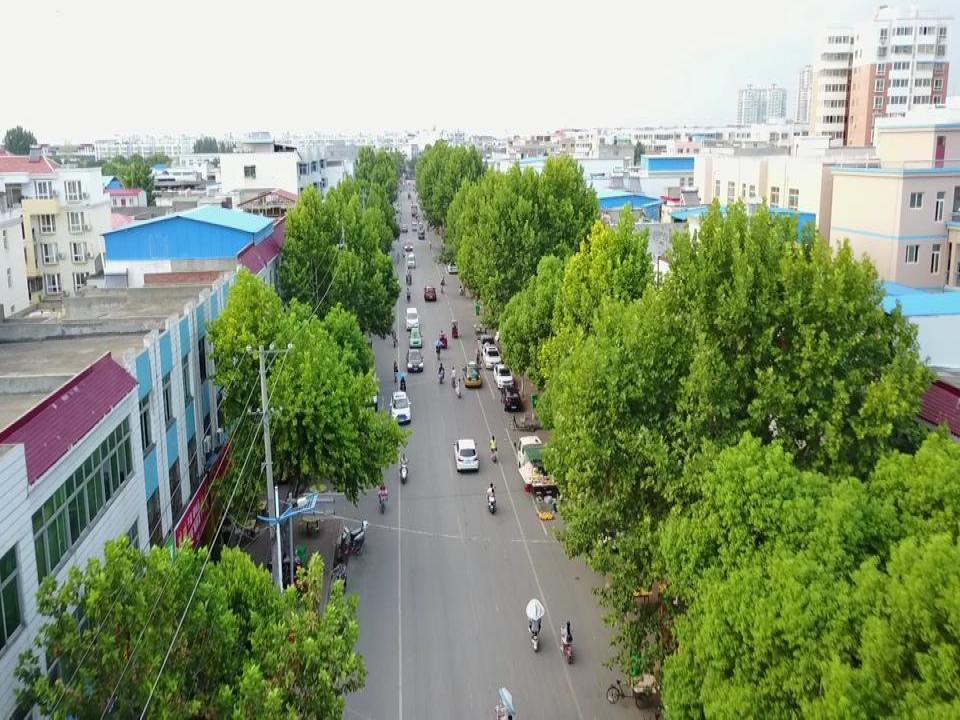car: (452, 437, 479, 472), (390, 389, 411, 424), (499, 386, 521, 411), (495, 327, 527, 344), (482, 343, 502, 369), (493, 364, 515, 387), (462, 361, 480, 388), (405, 348, 424, 371), (477, 332, 494, 351), (409, 328, 423, 349), (423, 285, 437, 303), (446, 260, 458, 273), (403, 240, 412, 251), (401, 223, 408, 232), (417, 231, 424, 238)
truck: (513, 435, 558, 494), (411, 203, 417, 216)
van: (356, 368, 379, 415), (404, 306, 420, 330), (407, 252, 415, 268), (412, 221, 417, 231)
